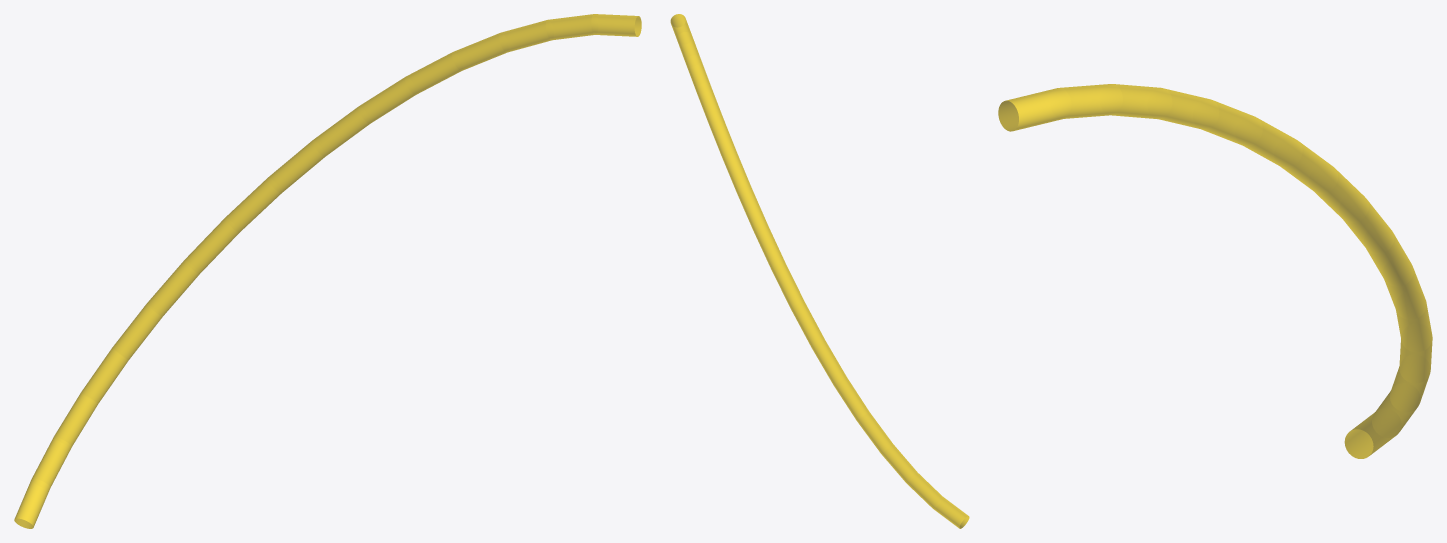
The model's file is Event_419990632_track_75.fbx.
The picture shows the model from 3 angles, left to right: view 1: azimuth 30°, elevation 25°; view 2: azimuth 150°, elevation 25°; view 3: azimuth 270°, elevation 25°; orthographic projection. The views are drawn at different scales.
Parts seen in each view (by area): view 1: Model; view 2: Model; view 3: Model.
Boxes of the visible parts, x1,y1,x2,y2 form: Model: (14,14,641,528); Model: (670,14,969,528); Model: (998,84,1432,458).
Bounding box in the file's own units: 1.12 × 1 × 0.5507.
